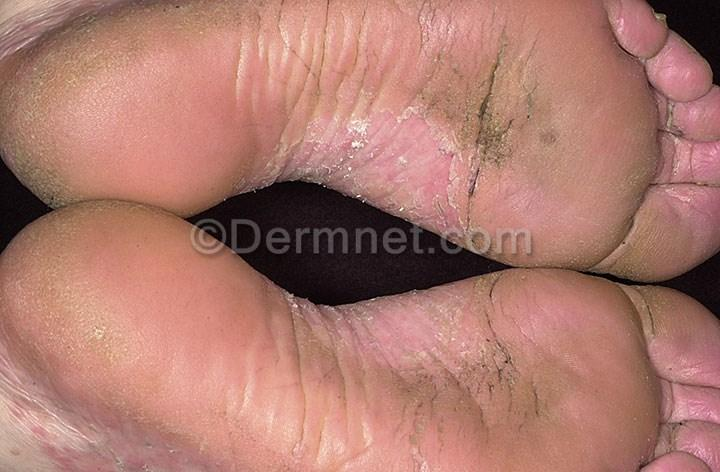Eczema: (396, 293, 473, 371), (338, 108, 401, 203), (406, 122, 467, 217), (468, 301, 529, 392), (291, 374, 384, 433), (284, 12, 384, 66), (329, 303, 400, 373), (391, 9, 465, 74), (466, 63, 548, 120), (475, 199, 554, 258), (441, 387, 530, 439), (269, 285, 326, 366), (225, 0, 290, 71), (460, 4, 530, 67), (247, 118, 326, 173), (458, 113, 509, 196), (249, 68, 333, 116), (98, 331, 154, 403), (390, 361, 441, 438), (394, 69, 468, 120), (49, 305, 116, 359), (513, 116, 558, 190), (277, 425, 353, 468), (7, 297, 62, 355), (152, 385, 201, 446), (531, 361, 572, 433), (40, 41, 111, 82), (5, 73, 54, 122), (336, 69, 394, 108), (0, 130, 46, 179), (653, 212, 698, 262), (391, 430, 444, 472), (228, 420, 277, 465), (42, 256, 84, 305), (645, 323, 685, 373), (77, 12, 127, 52), (664, 174, 715, 212), (128, 2, 173, 43), (173, 0, 224, 36), (234, 373, 276, 415), (5, 253, 42, 298), (694, 302, 717, 374), (476, 276, 527, 308), (663, 146, 707, 183), (618, 13, 657, 53), (627, 243, 664, 280), (44, 217, 81, 251), (659, 377, 689, 418), (693, 203, 718, 252), (652, 296, 695, 324), (653, 38, 691, 69), (89, 198, 127, 229), (678, 62, 711, 96), (656, 103, 692, 133), (220, 163, 254, 193), (702, 93, 720, 143), (663, 68, 693, 98), (695, 424, 720, 460), (40, 170, 66, 203), (665, 427, 693, 456), (664, 455, 708, 472), (694, 394, 720, 420), (19, 227, 46, 251), (135, 205, 162, 220), (708, 146, 715, 177)
